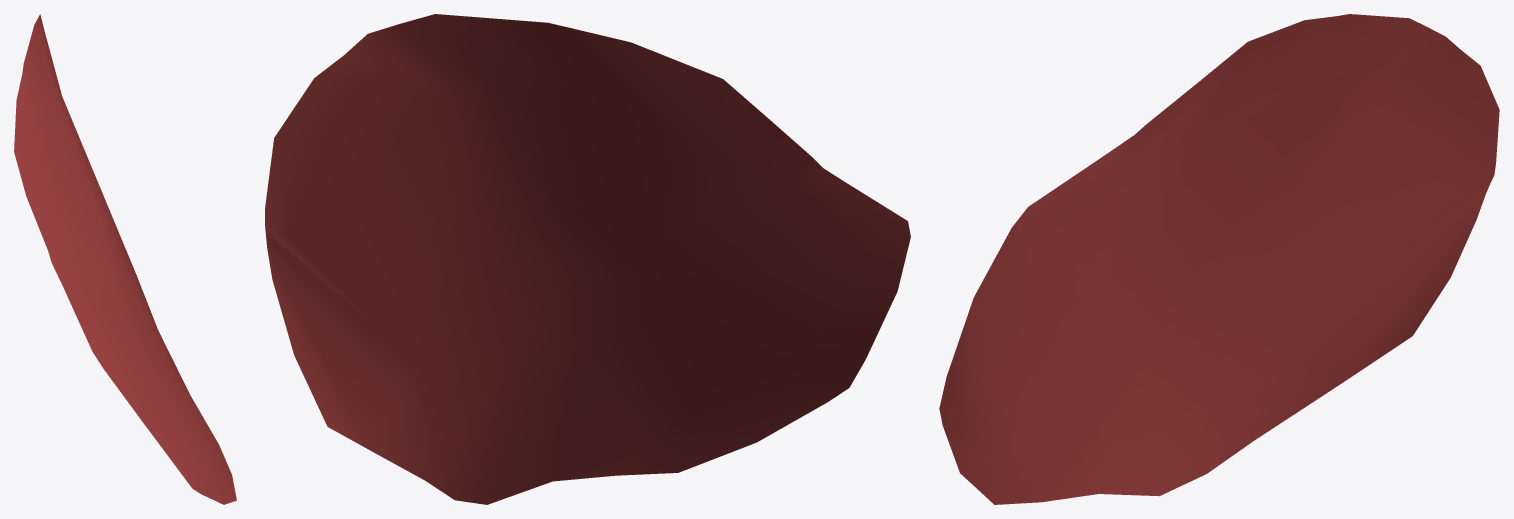
Rendered from diaphragm-o5r.glb.
3 renders of one model, left to right at view 1: azimuth 30°, elevation 25°; view 2: azimuth 150°, elevation 25°; view 3: azimuth 270°, elevation 25°, orthographic. The views are drawn at different scales.
Parts seen in each view (by area): view 1: Diaphragm.o5r; view 2: Diaphragm.o5r; view 3: Diaphragm.o5r.
Part boxes in pixels (x1=…): Diaphragm.o5r: x1=14, y1=14, x2=236, y2=504; Diaphragm.o5r: x1=265, y1=14, x2=910, y2=504; Diaphragm.o5r: x1=939, y1=14, x2=1499, y2=504.
Size of the model in its own units: 0.00426 by 0.00904 by 0.00992.
